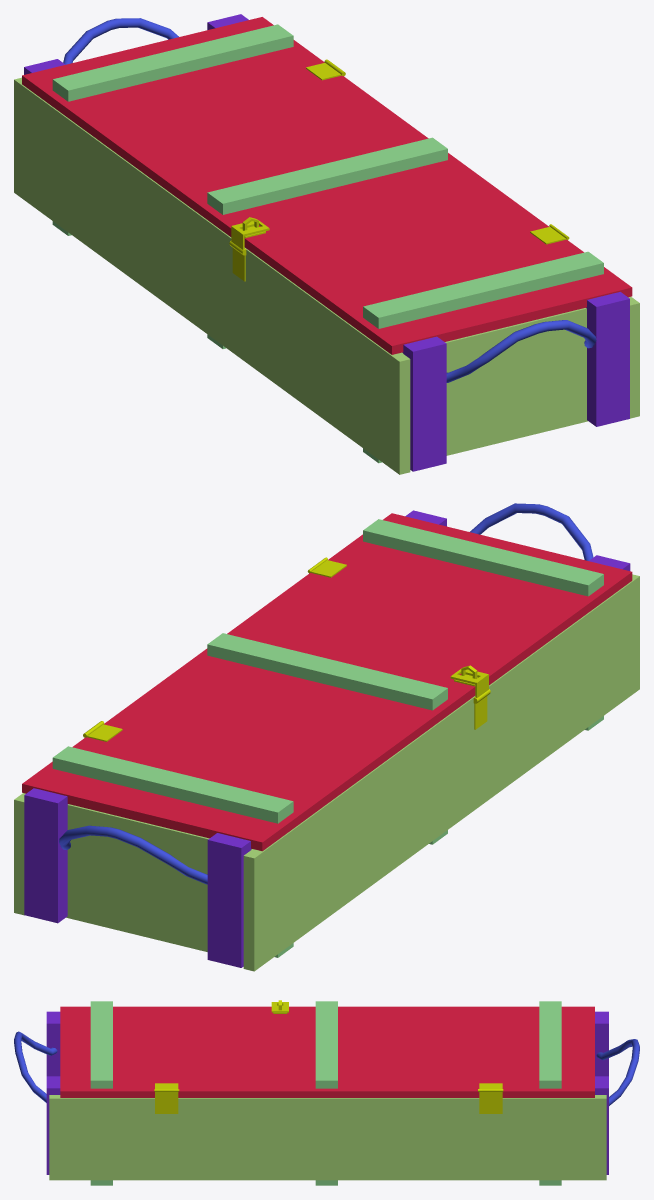
The model's file is AmmoBox.fbx.
The picture shows the model from 3 angles, top to bottom: view 1: azimuth 30°, elevation 25°; view 2: azimuth 150°, elevation 25°; view 3: azimuth 270°, elevation 25°; orthographic projection. The views are drawn at different scales.
Visible parts, largest first — view 1: AmmoBox; view 2: AmmoBox; view 3: AmmoBox.
Part boxes in pixels (bbox=[...]): AmmoBox: bbox=[14, 14, 639, 474]; AmmoBox: bbox=[14, 503, 639, 971]; AmmoBox: bbox=[14, 1000, 639, 1185].
Size of the model in its own units: 37.11 by 21.5 by 113.
